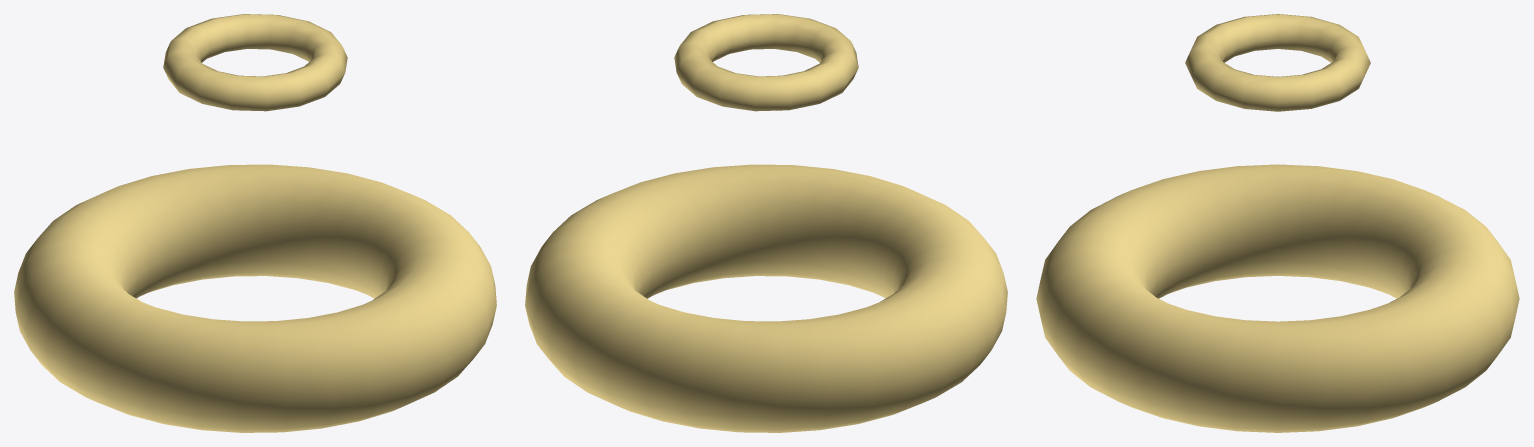
Rendered from test-pendant.glb.
3 views of the same model, side by side, from view 1: azimuth 30°, elevation 25°; view 2: azimuth 150°, elevation 25°; view 3: azimuth 270°, elevation 25° (orthographic).
Parts seen in each view (by area): view 1: Model; view 2: Model; view 3: Model.
Boxes of the visible parts, x1=… form: Model: x1=14, y1=14, x2=496, y2=432; Model: x1=525, y1=14, x2=1007, y2=432; Model: x1=1036, y1=14, x2=1519, y2=432.
Size of the model in its own units: 13 by 9 by 13.
